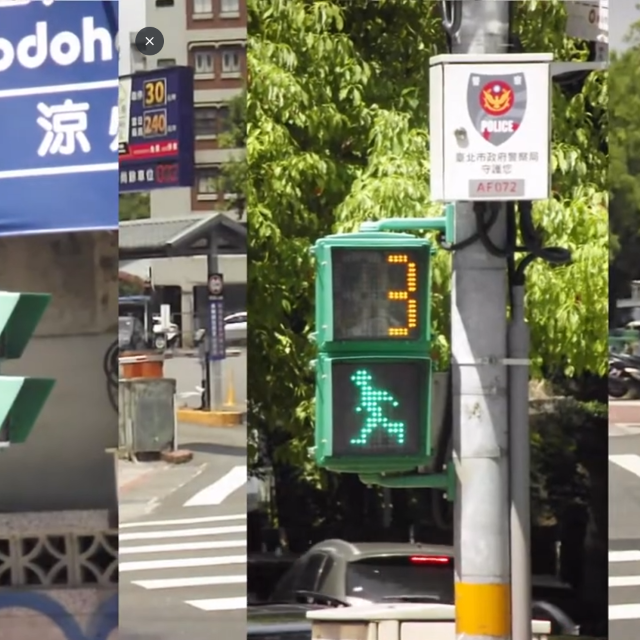green_light: (318, 243, 430, 462)
